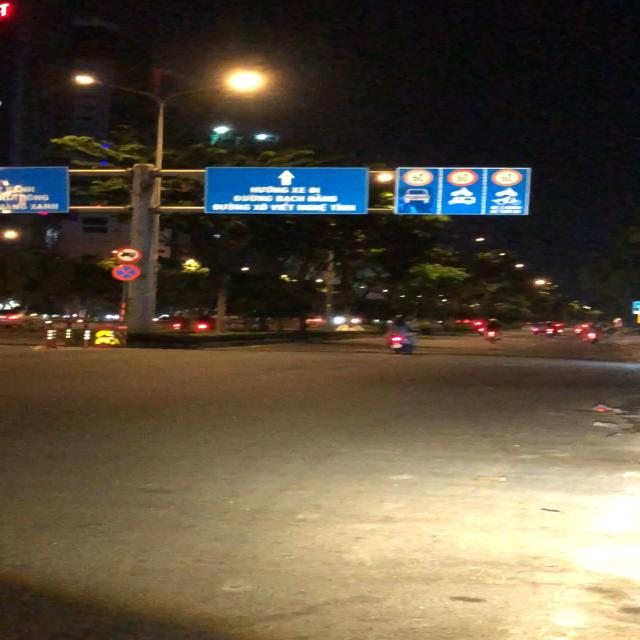Bien bao cam dung xe va do xe: (112, 264, 144, 281)
Bien bao cam xe oto tai: (112, 246, 142, 263)
